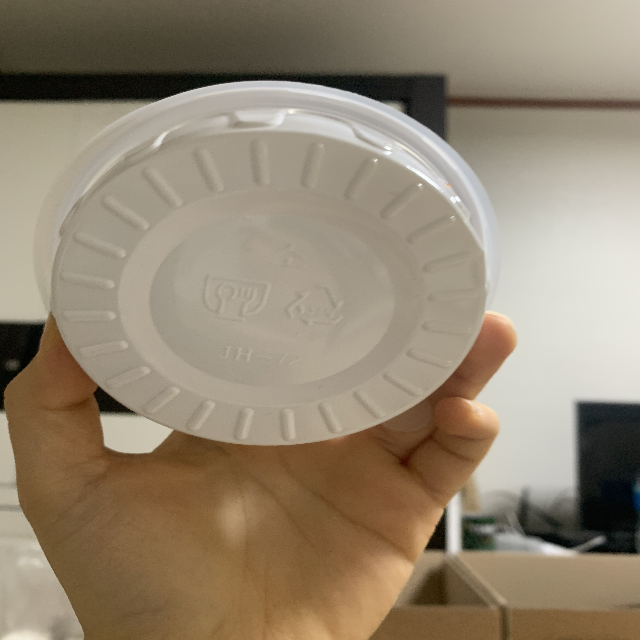ps: (281, 280, 344, 339)
